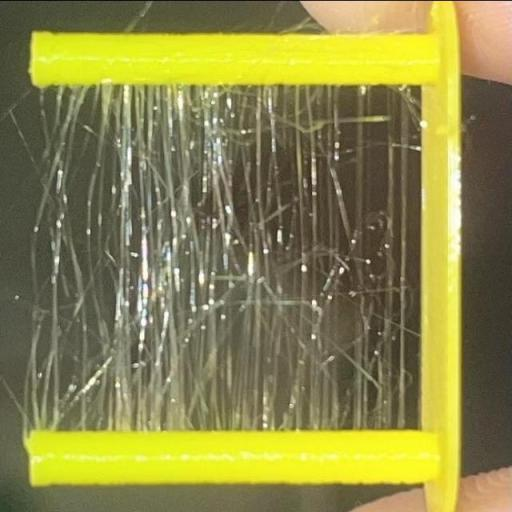stringing: (34, 73, 426, 433)
